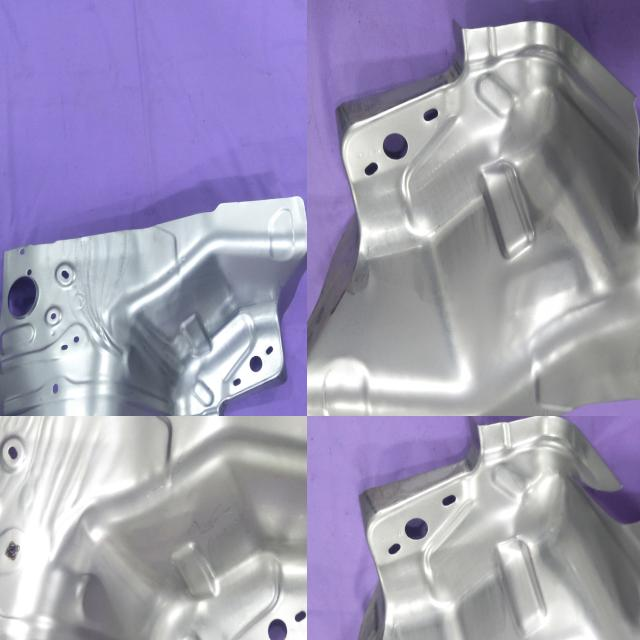Defect: (561, 469, 640, 538), (625, 92, 640, 236), (125, 410, 155, 416)
Healthy: (0, 416, 307, 640)
